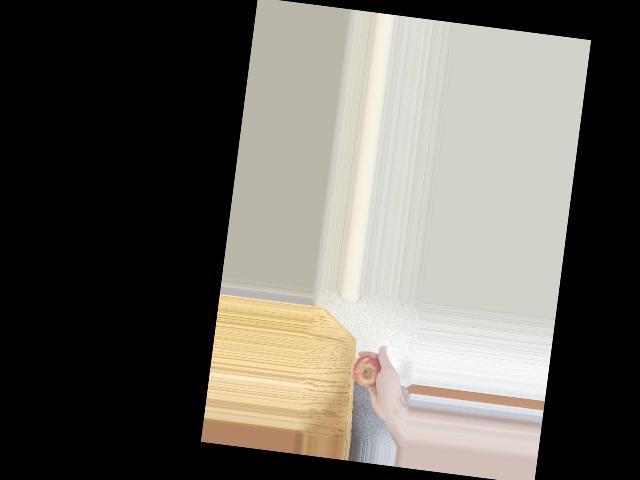apple: (350, 353, 384, 392)
